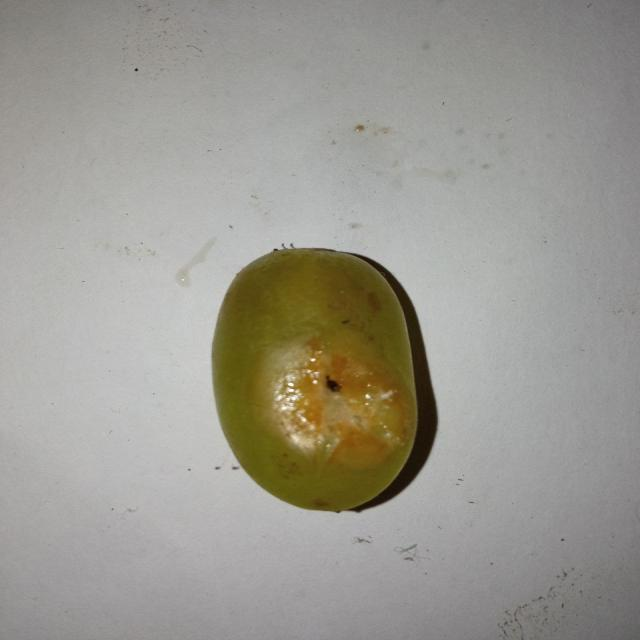rotten_grape: (216, 252, 414, 507)
